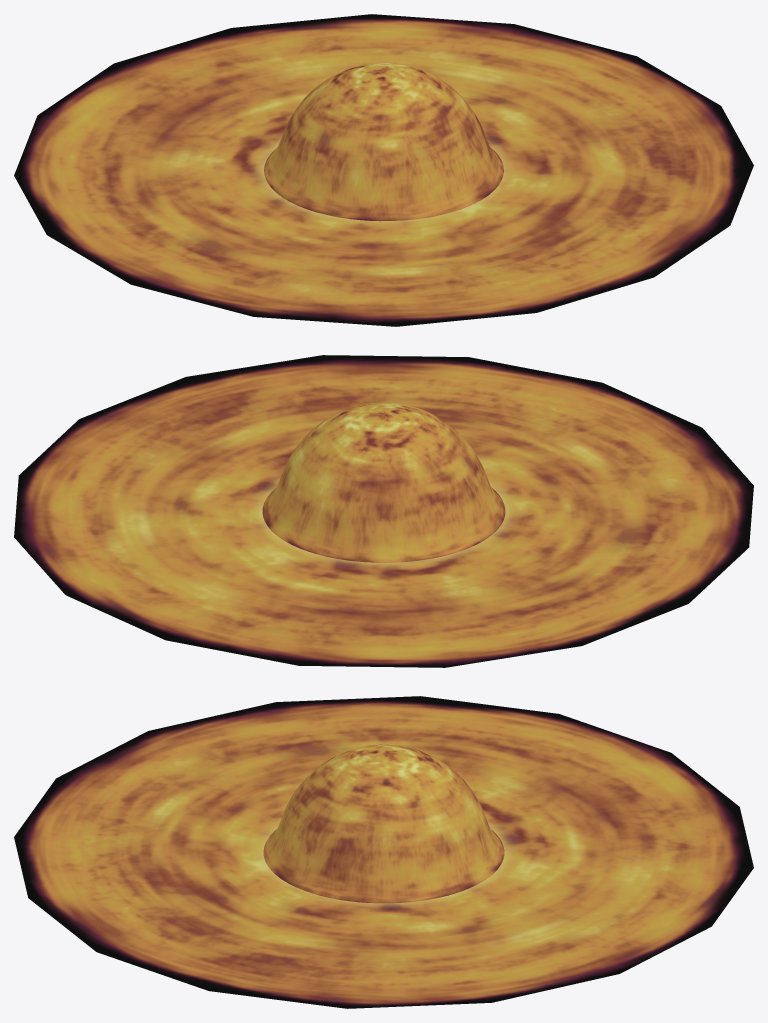
File: blackhole.glb
3 renders of one model, top to bottom at view 1: azimuth 30°, elevation 25°; view 2: azimuth 150°, elevation 25°; view 3: azimuth 270°, elevation 25°, orthographic.
Visible parts, largest first — view 1: Blackhole_ring, Blackhole_skin_001; view 2: Blackhole_ring, Blackhole_skin_001; view 3: Blackhole_ring, Blackhole_skin_001.
Boxes of the visible parts, x1,y1,x2,y2 form: Blackhole_ring: [14, 14, 753, 326]; Blackhole_skin_001: [264, 63, 503, 221]; Blackhole_ring: [14, 355, 753, 667]; Blackhole_skin_001: [262, 402, 505, 562]; Blackhole_ring: [14, 696, 753, 1008]; Blackhole_skin_001: [263, 744, 504, 903].
Size of the model in its own units: 3.91 by 1.14 by 3.91.
5 materials, 4 textured.
